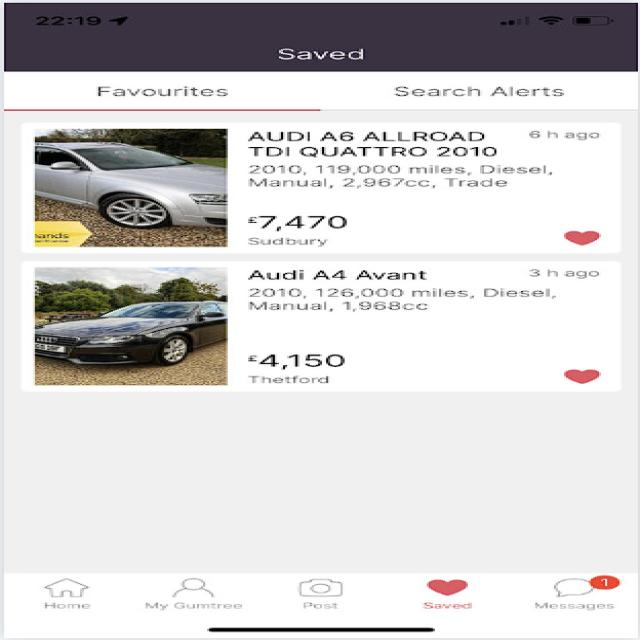icon button: (394, 565, 512, 620), (138, 570, 256, 620), (531, 568, 640, 621), (282, 566, 373, 619), (18, 570, 104, 616)
image: (36, 126, 232, 250), (30, 264, 228, 380)
row: (0, 120, 640, 258), (0, 258, 640, 396)
spacer: (12, 406, 605, 550)
text: (250, 130, 608, 189), (250, 262, 612, 316), (261, 40, 399, 66)
